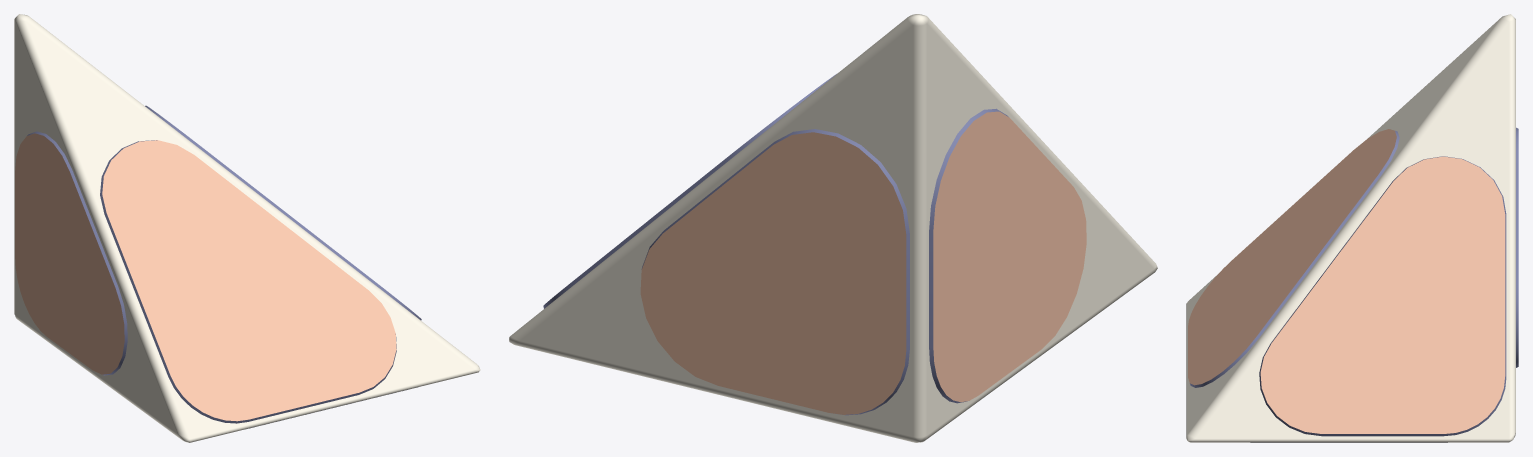
File: R4B_CornerWedge.fbx
The picture shows the model from 3 angles, left to right: view 1: azimuth 30°, elevation 25°; view 2: azimuth 150°, elevation 25°; view 3: azimuth 270°, elevation 25°; orthographic projection. The views are drawn at different scales.
Visible parts, largest first — view 1: R4B_CornerWedge; view 2: R4B_CornerWedge; view 3: R4B_CornerWedge.
Boxes of the visible parts, bbox=[...] form: R4B_CornerWedge: bbox=[14, 14, 480, 442]; R4B_CornerWedge: bbox=[509, 14, 1157, 442]; R4B_CornerWedge: bbox=[1186, 14, 1518, 442].
Bounding box in the file's own units: 0.5042 × 0.4933 × 0.5042.
